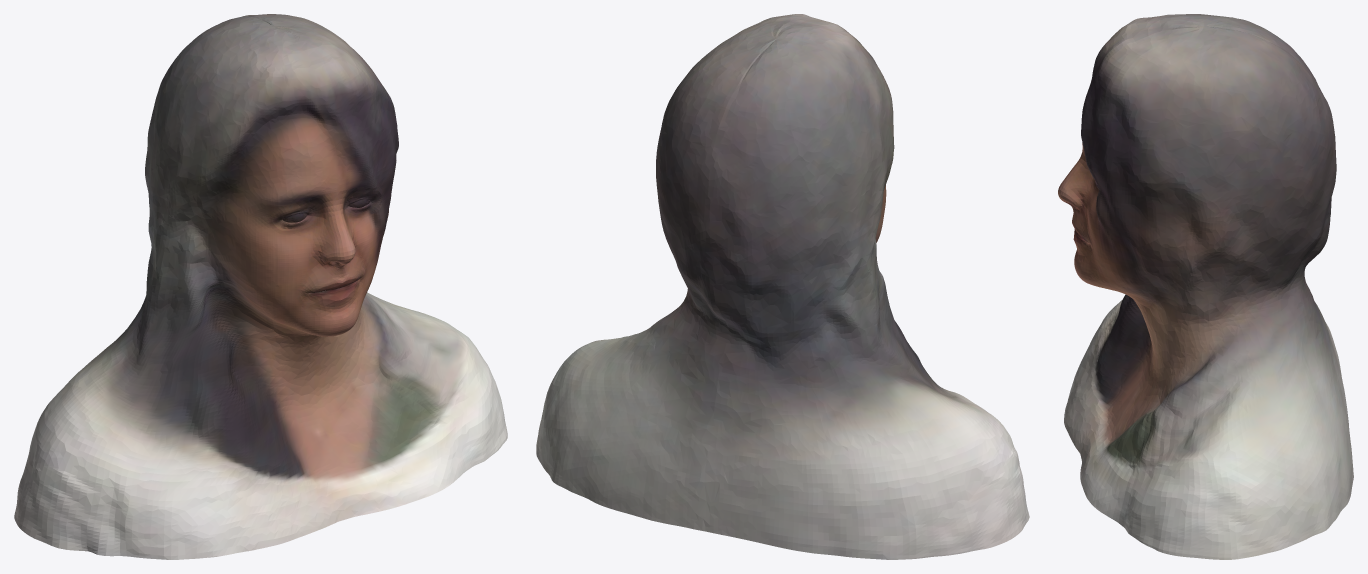
Rendered from lucia.glb.
3 renders of one model, left to right at view 1: azimuth 30°, elevation 25°; view 2: azimuth 150°, elevation 25°; view 3: azimuth 270°, elevation 25°, orthographic. The views are drawn at different scales.
Parts seen in each view (by area): view 1: Node1; view 2: Node1; view 3: Node1.
Boxes of the visible parts, x1=… form: Node1: x1=14, y1=14, x2=507, y2=559; Node1: x1=536, y1=14, x2=1029, y2=559; Node1: x1=1058, y1=14, x2=1353, y2=559.
Size of the model in its own units: 0.434 by 0.3939 by 0.2457.
1 material, 1 textured.
